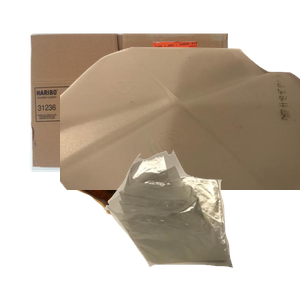cardboard: (28, 31, 249, 195)
glass: (60, 166, 241, 300)
plastic: (60, 44, 300, 224)
trash: (101, 148, 300, 300)
